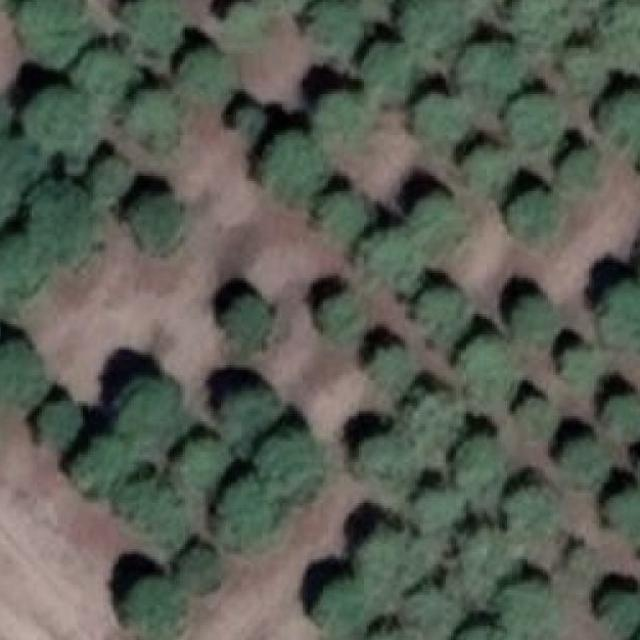Tree: (112, 478, 196, 552), (359, 528, 428, 610), (446, 534, 520, 603), (35, 184, 101, 261), (19, 0, 90, 61), (121, 576, 188, 640), (25, 92, 91, 156), (255, 431, 321, 493), (119, 378, 180, 445), (362, 227, 423, 293), (219, 477, 273, 547), (313, 580, 374, 639), (461, 41, 526, 95), (499, 580, 558, 639), (456, 337, 512, 399), (262, 133, 323, 189), (357, 434, 418, 490), (173, 436, 234, 491), (129, 193, 183, 253), (73, 48, 134, 99), (72, 436, 126, 491), (408, 393, 462, 448), (0, 142, 42, 212), (511, 0, 576, 45), (507, 94, 556, 153), (311, 0, 365, 53), (402, 0, 461, 48), (124, 0, 178, 51), (311, 89, 367, 138), (601, 280, 640, 350), (0, 341, 45, 401), (594, 0, 640, 58), (417, 194, 466, 248), (127, 92, 178, 143), (415, 92, 466, 143), (364, 41, 410, 97), (456, 437, 505, 488), (507, 189, 561, 235), (407, 592, 458, 640), (216, 391, 275, 432), (566, 43, 614, 92), (413, 286, 464, 332), (507, 486, 558, 532), (463, 143, 512, 189), (223, 294, 272, 339), (0, 240, 39, 296), (180, 51, 226, 97), (599, 392, 640, 442), (318, 196, 367, 237), (606, 89, 640, 147), (40, 398, 84, 442), (510, 294, 551, 339), (318, 294, 359, 338), (558, 145, 604, 184), (415, 488, 459, 528), (563, 439, 599, 484), (182, 547, 221, 588), (606, 489, 640, 534), (564, 350, 604, 386), (224, 0, 270, 31), (602, 595, 640, 631), (517, 398, 551, 437), (372, 344, 408, 380), (93, 161, 127, 194), (239, 102, 263, 126)
